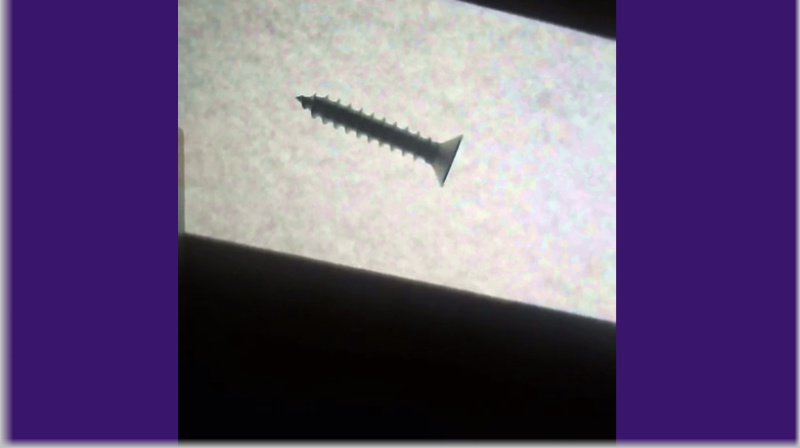S001: (291, 92, 465, 189)
